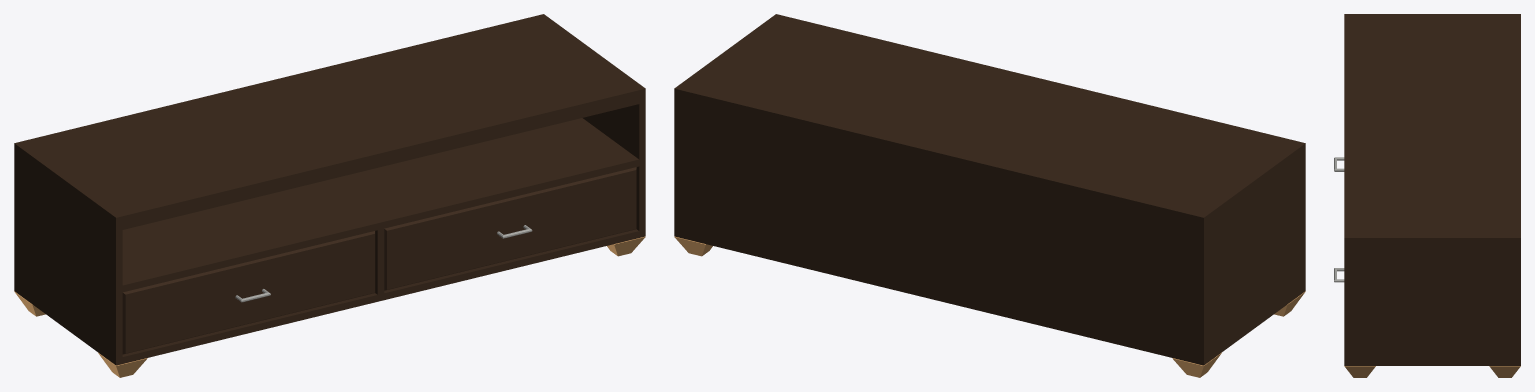
Rendered from 2-by-cmht-oculus-238sWQK7yok.glb.
3 views of the same model, side by side, from view 1: azimuth 30°, elevation 25°; view 2: azimuth 150°, elevation 25°; view 3: azimuth 270°, elevation 25° (orthographic). The views are drawn at different scales.
Visible parts, largest first — view 1: Node; view 2: Node; view 3: Node.
Boxes of the visible parts, x1=… form: Node: x1=14, y1=14, x2=645, y2=377; Node: x1=674, y1=14, x2=1305, y2=377; Node: x1=1334, y1=14, x2=1520, y2=377.
Size of the model in its own units: 60 by 18 by 21.17.
